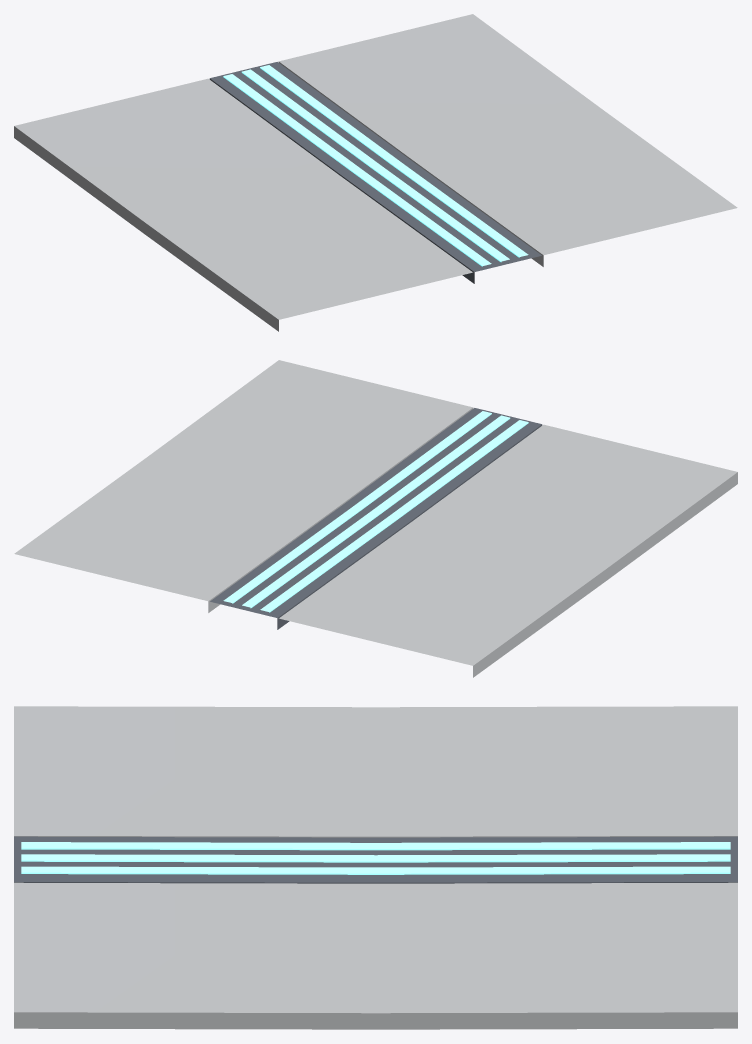
Rendered from ext_paving_promenade_04.glb.
3 renders of one model, top to bottom at view 1: azimuth 30°, elevation 25°; view 2: azimuth 150°, elevation 25°; view 3: azimuth 270°, elevation 25°, orthographic. The views are drawn at different scales.
Visible parts, largest first — view 1: Pavers, Guide_Strip, Tactile_Bars; view 2: Pavers, Guide_Strip, Tactile_Bars; view 3: Pavers, Guide_Strip, Tactile_Bars.
Boxes of the visible parts, box(x1,y1,x2,y2) form: Pavers: box(14, 14, 737, 331); Guide_Strip: box(209, 62, 541, 283); Tactile_Bars: box(223, 65, 528, 266); Pavers: box(14, 360, 737, 677); Guide_Strip: box(210, 408, 542, 629); Tactile_Bars: box(223, 411, 528, 612); Pavers: box(14, 706, 737, 1029); Guide_Strip: box(14, 836, 737, 883); Tactile_Bars: box(21, 842, 730, 874).
Bounding box in the file's own units: 1.99 × 0.0586 × 1.99.
